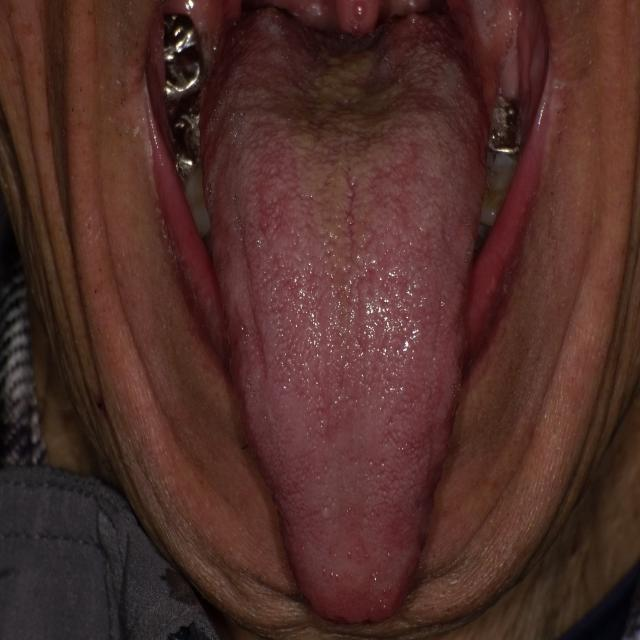huangtaishe: (199, 5, 490, 626)
shenquao: (264, 6, 418, 60)
shoushe: (199, 5, 490, 626)
